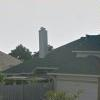Chimney: (33, 23, 56, 61)
